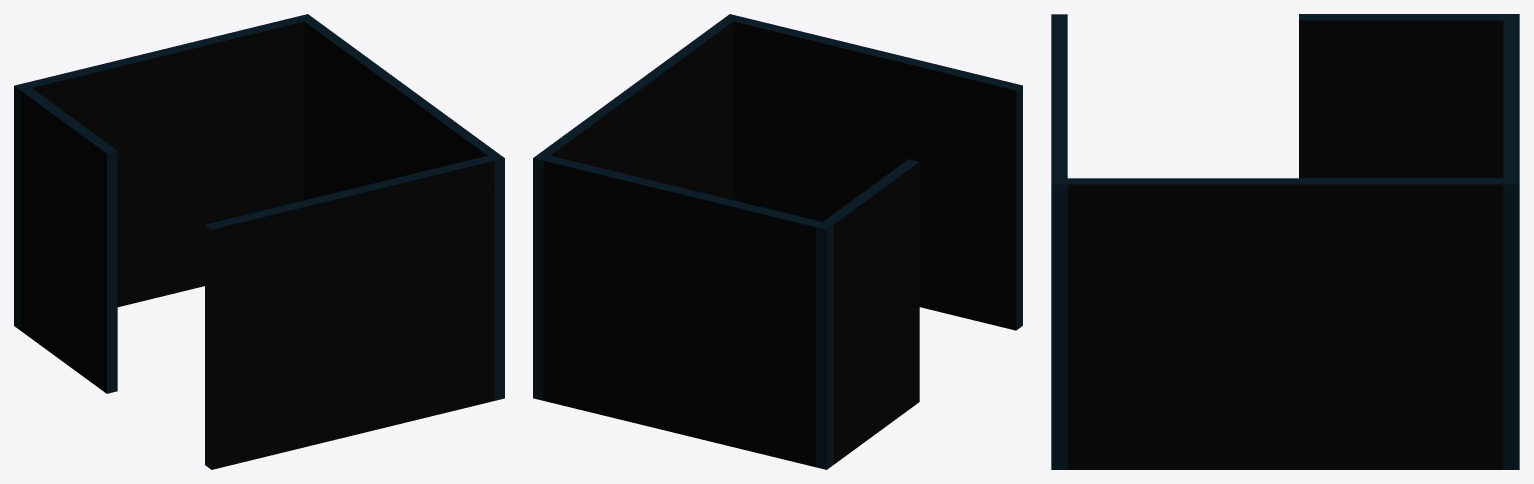
File: SM_CubicleEmpty.glb
3 views of the same model, side by side, from view 1: azimuth 30°, elevation 25°; view 2: azimuth 150°, elevation 25°; view 3: azimuth 270°, elevation 25° (orthographic). The views are drawn at different scales.
Parts seen in each view (by area): view 1: SM_CubicleEmpty; view 2: SM_CubicleEmpty; view 3: SM_CubicleEmpty.
Boxes of the visible parts, x1=… form: SM_CubicleEmpty: x1=14, y1=14, x2=504, y2=469; SM_CubicleEmpty: x1=533, y1=14, x2=1022, y2=469; SM_CubicleEmpty: x1=1051, y1=14, x2=1519, y2=469.
Size of the model in its own units: 1.94 by 1.52 by 2.26.
1 material, 1 textured.
